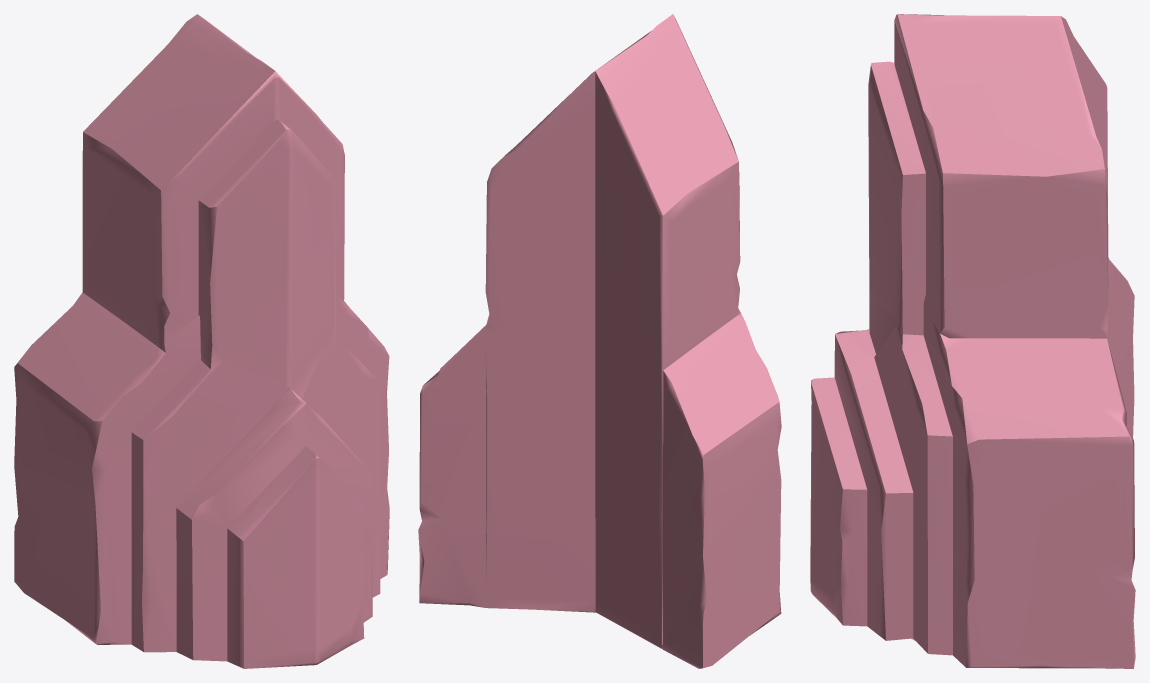
Rendered from stone_element_13j.fbx.
3 views of the same model, side by side, from view 1: azimuth 30°, elevation 25°; view 2: azimuth 150°, elevation 25°; view 3: azimuth 270°, elevation 25° (orthographic). The views are drawn at different scales.
Parts seen in each view (by area): view 1: stone_element_13j_LOD0; view 2: stone_element_13j_LOD0; view 3: stone_element_13j_LOD0.
Part boxes in pixels (bbox=[...]): stone_element_13j_LOD0: bbox=[14, 14, 389, 668]; stone_element_13j_LOD0: bbox=[418, 14, 781, 668]; stone_element_13j_LOD0: bbox=[810, 14, 1135, 668].
Size of what is drawn, in the model's own units: 151 by 275 by 139.
